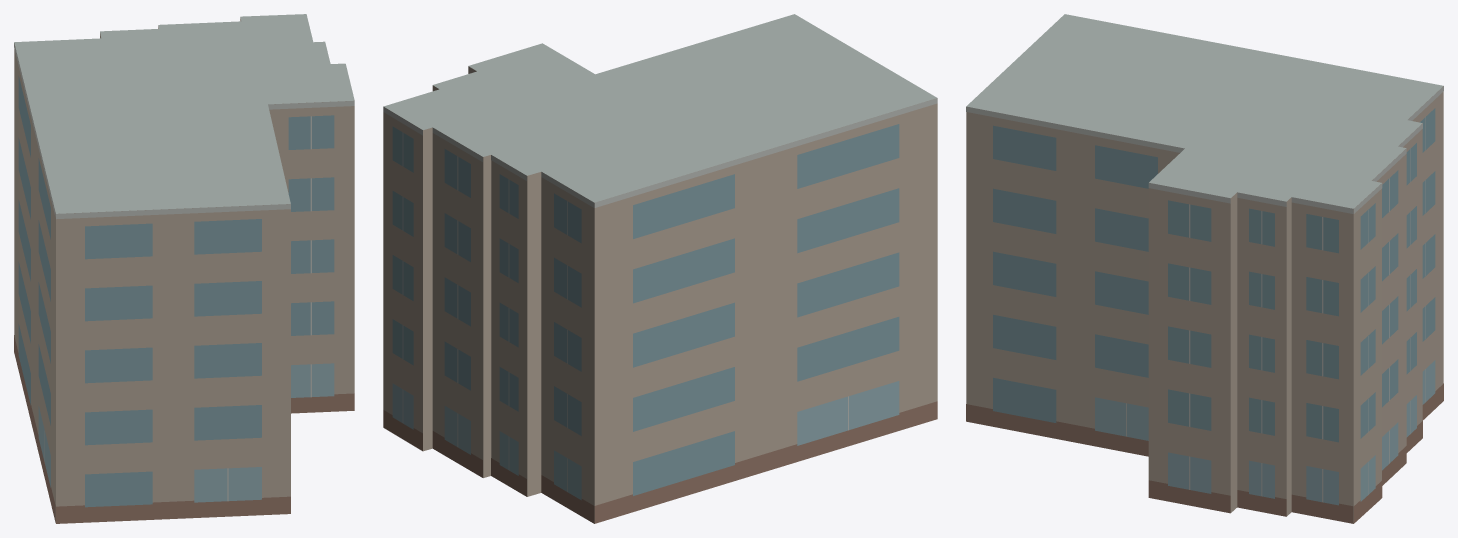
File: survey-upis-33031007.glb
The picture shows the model from 3 angles, left to right: view 1: azimuth 30°, elevation 25°; view 2: azimuth 150°, elevation 25°; view 3: azimuth 270°, elevation 25°; orthographic projection. The views are drawn at different scales.
Parts seen in each view (by area): view 1: survey-upis-33031007.tmp; view 2: survey-upis-33031007.tmp; view 3: survey-upis-33031007.tmp.
Boxes of the visible parts, <box> form: survey-upis-33031007.tmp: <box>14,14,354,523</box>; survey-upis-33031007.tmp: <box>383,14,937,523</box>; survey-upis-33031007.tmp: <box>966,14,1443,523</box>.
Size of the model in its own units: 19 by 14.32 by 19.69.
